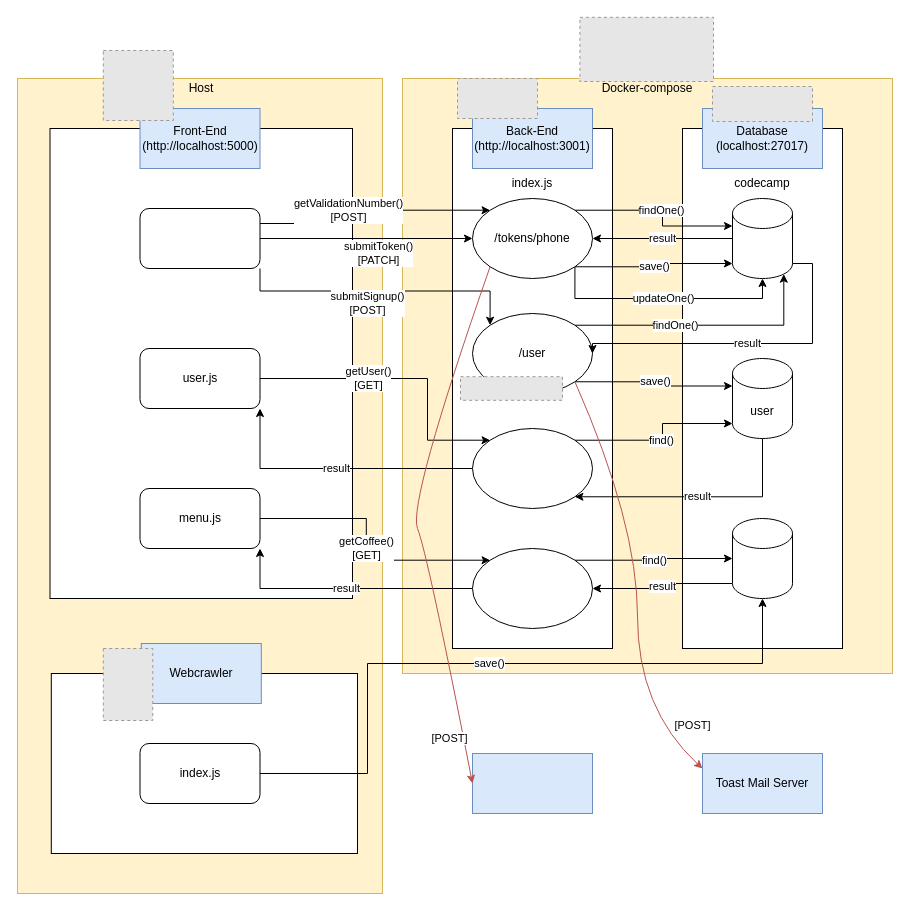
Some shapes in this 910 by 912 pixel diagram are drawn without their labels. Grey dashed boxes stand in for pictures. Here are the shapes that lost their labels. From the top down, the centre of each, then its label:
At point (199, 238): "signup.js".
At point (762, 238): "token".
At point (532, 468): "/users".
At point (762, 558): "starbucks".
At point (532, 588): "/starbucks".
At point (532, 783): "Toast SMS Server".
